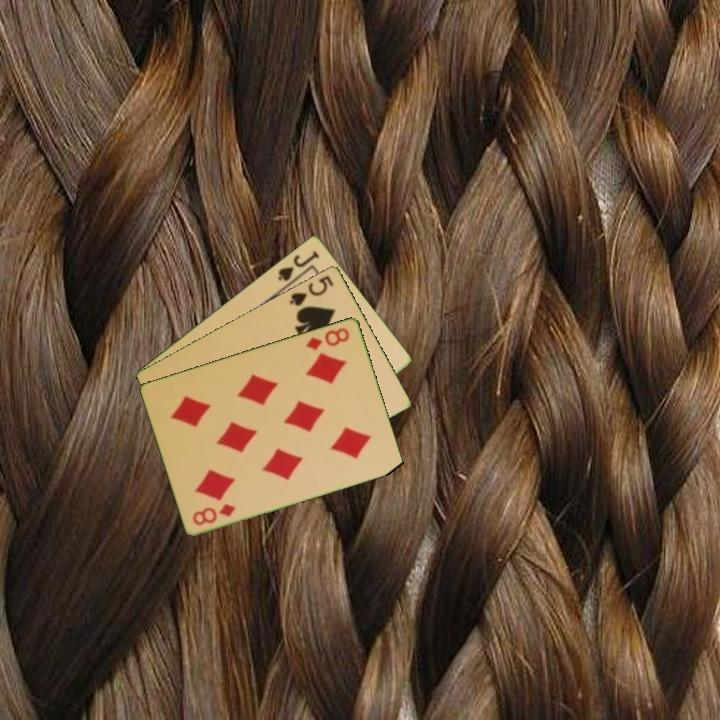5s: (286, 271, 337, 309)
8d: (303, 324, 353, 352), (189, 500, 239, 528)
Js: (274, 247, 323, 284)
